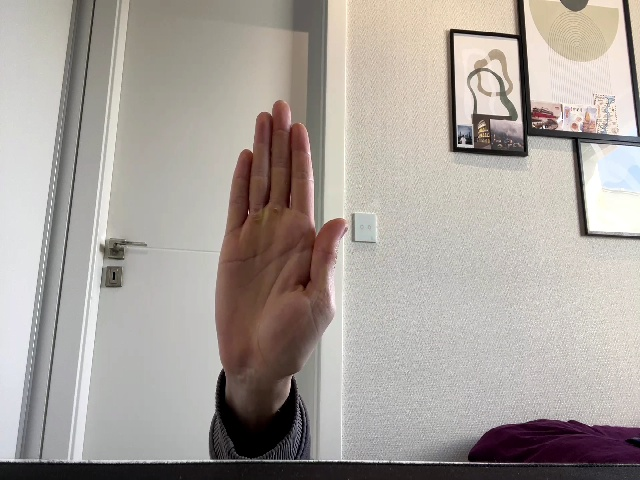B: (214, 100, 349, 377)
